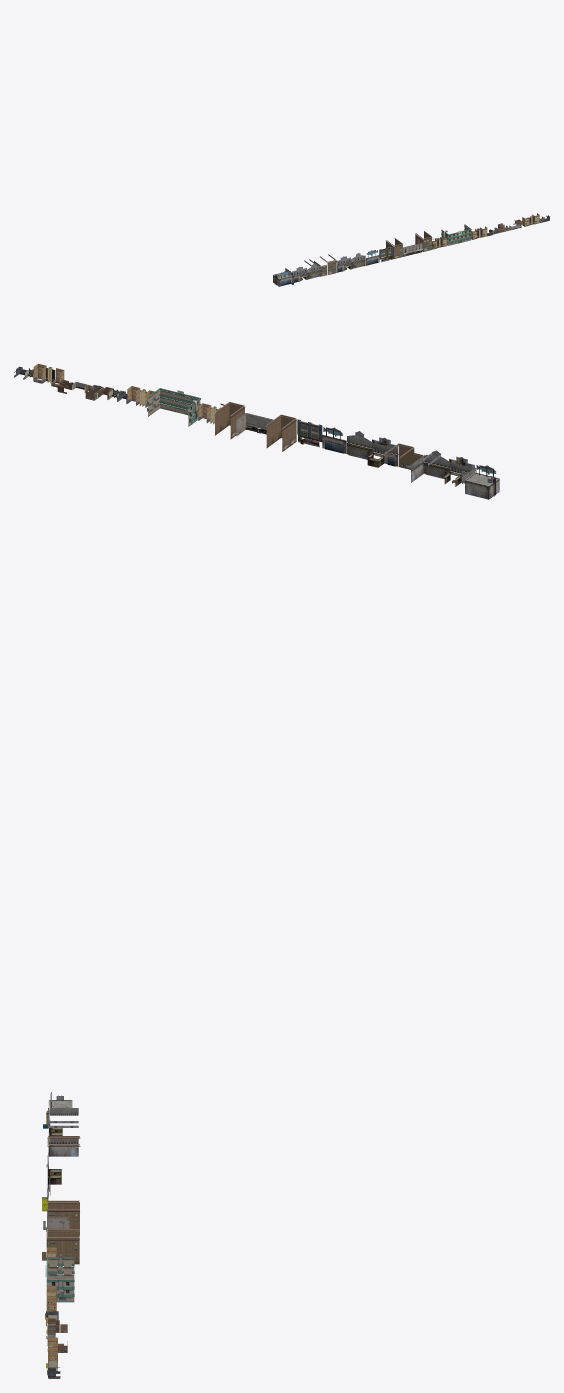
3 renders of one model, top to bottom at view 1: azimuth 30°, elevation 25°; view 2: azimuth 150°, elevation 25°; view 3: azimuth 270°, elevation 25°, orthographic. The views are drawn at different scales.
Visible parts, largest first — view 1: polySurface2150; view 2: polySurface2150; view 3: polySurface2150.
Boxes of the visible parts, x1,y1,x2,y2 form: polySurface2150: (273,213,549,286); polySurface2150: (14,363,499,499); polySurface2150: (42,1092,80,1378).
Size of the model in its own units: 2871 by 1459 by 1430.
